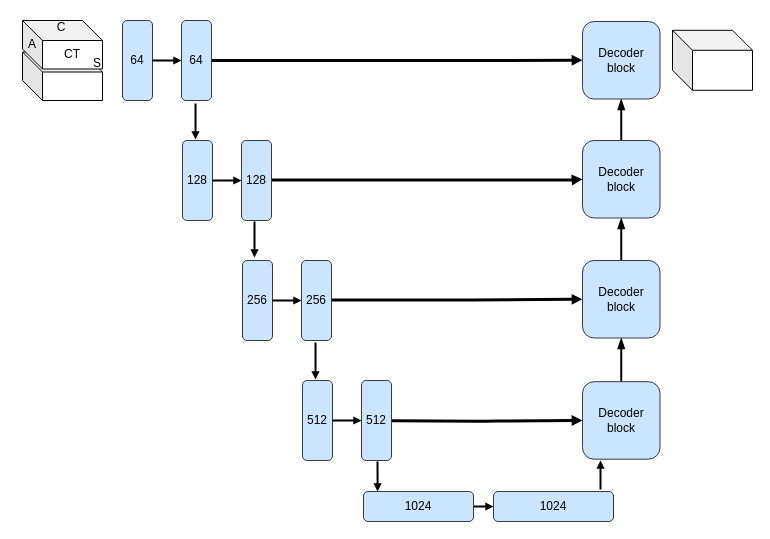
The diagram is 770 pixels wide and 539 high, and some of its shapes have lost their labels. The centre of each missing label's shape, as x and y in pixels:
"Dosemap" goes at point 712,59.
"PET" goes at point 62,75.
